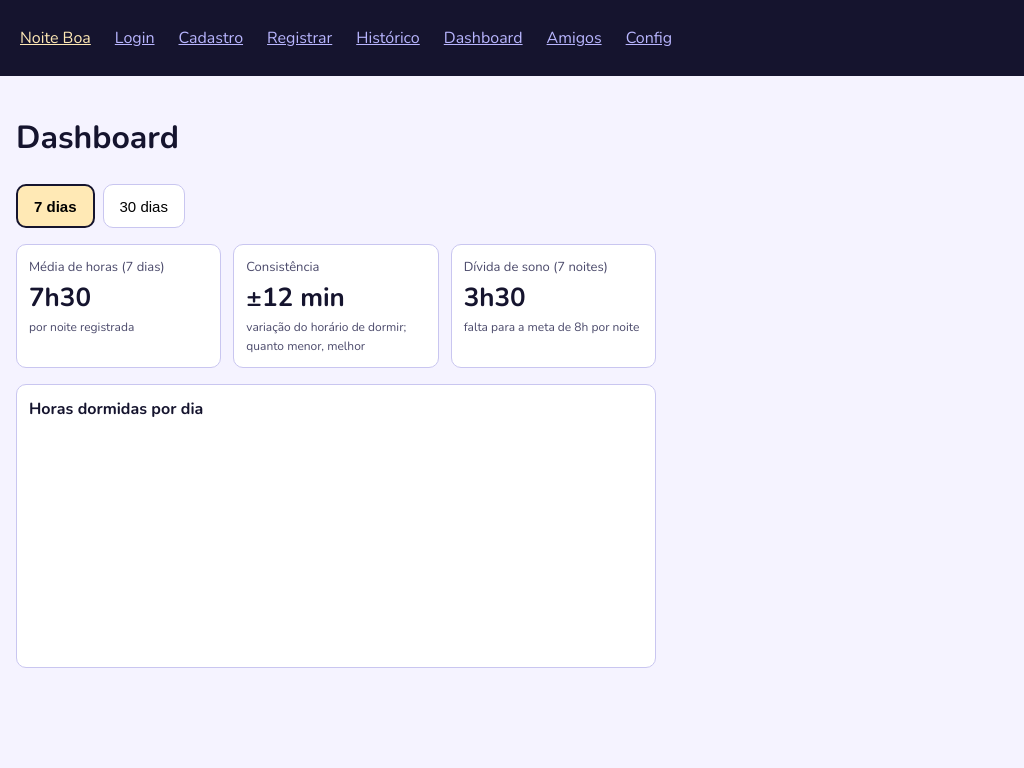
Test case: Dashboard › alterna para 30 dias e recarrega
Expected: the text "7h30" is shown, [29, 280, 91, 315]
Click the button "30 dias" at (144, 206), box [102, 184, 185, 228]
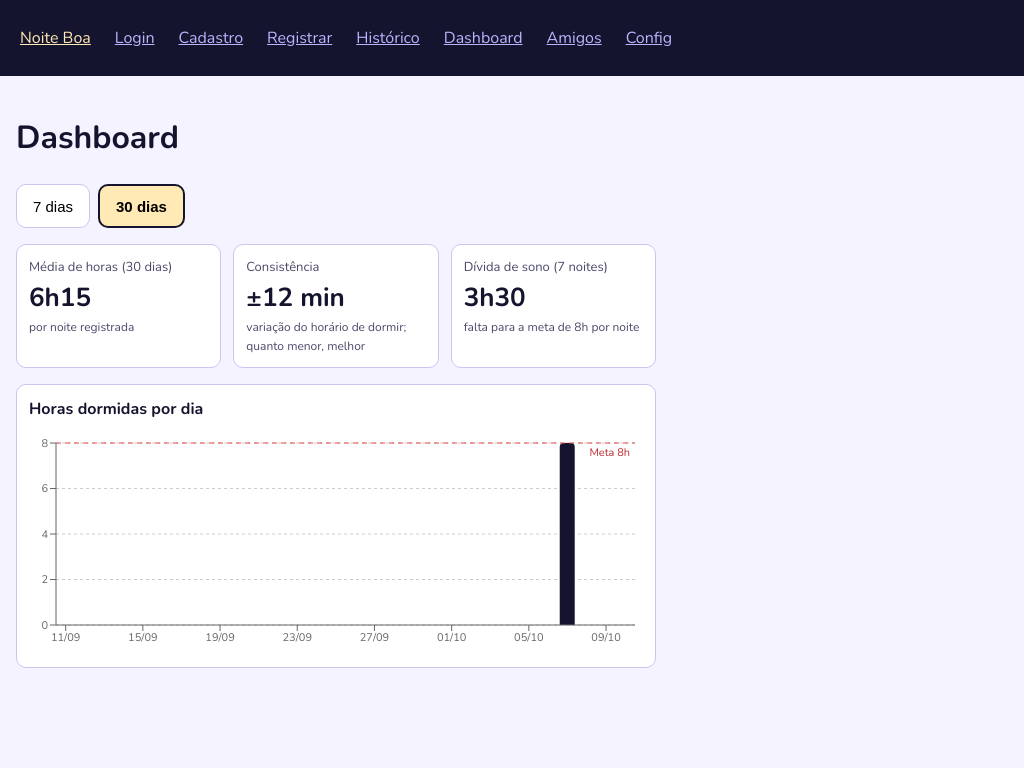
Expected: the text "6h15" is shown, [29, 280, 91, 315]
